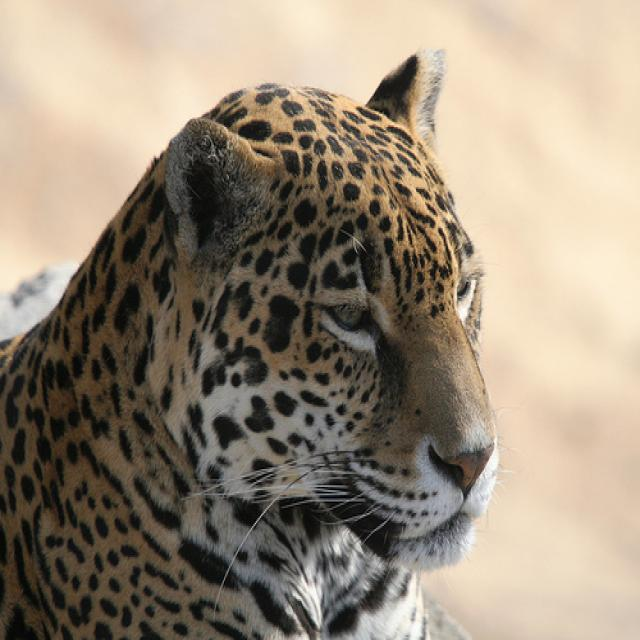Leopard: (1, 44, 499, 637)
